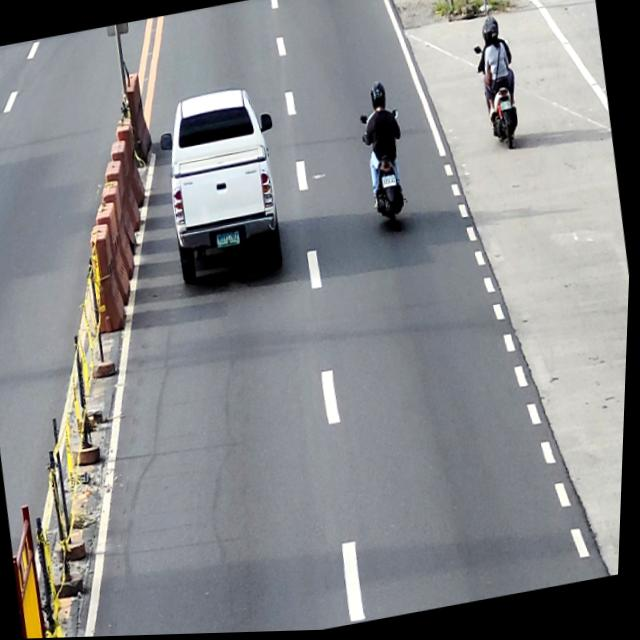Car: (149, 81, 298, 290)
License-Plate: (217, 231, 243, 249), (384, 178, 398, 190), (500, 103, 513, 114)
Motorcycle: (356, 107, 419, 241), (470, 41, 526, 158)
